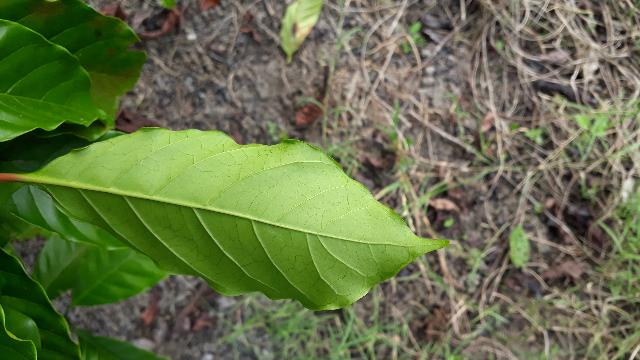healthy: (24, 124, 458, 313)
